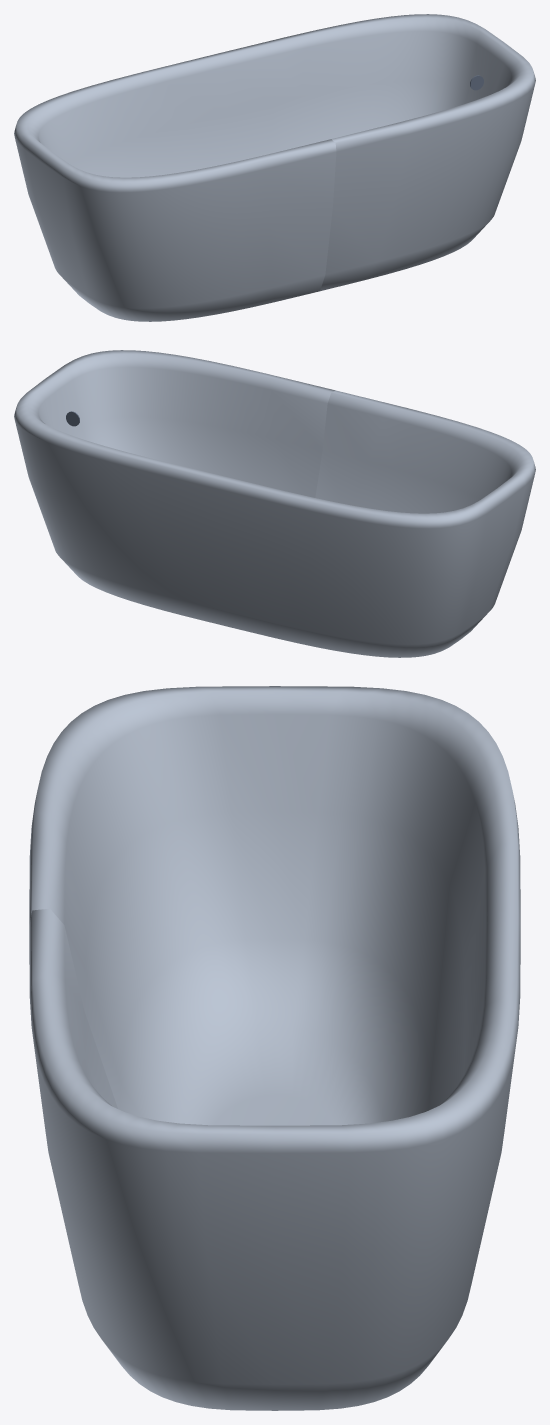
File: bathtub-lite.glb
3 renders of one model, top to bottom at view 1: azimuth 30°, elevation 25°; view 2: azimuth 150°, elevation 25°; view 3: azimuth 270°, elevation 25°, orthographic. The views are drawn at different scales.
Parts seen in each view (by area): view 1: soft; view 2: soft; view 3: soft.
Part boxes in pixels (bbox=[...]): soft: bbox=[14, 14, 535, 321]; soft: bbox=[14, 350, 535, 657]; soft: bbox=[29, 686, 520, 1410].
Bounding box in the file's own units: 1.7 × 0.58 × 0.78.
